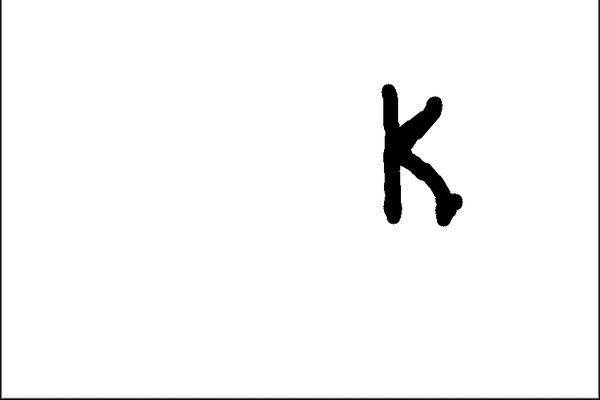K: (366, 73, 472, 236)
